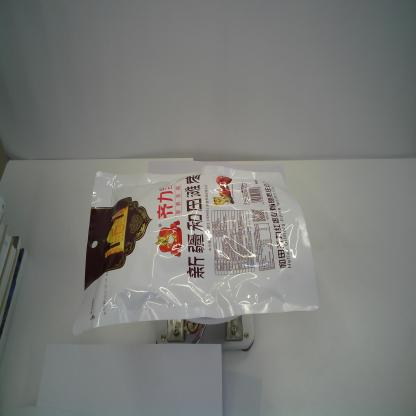Dried Food: (71, 167, 320, 335)
